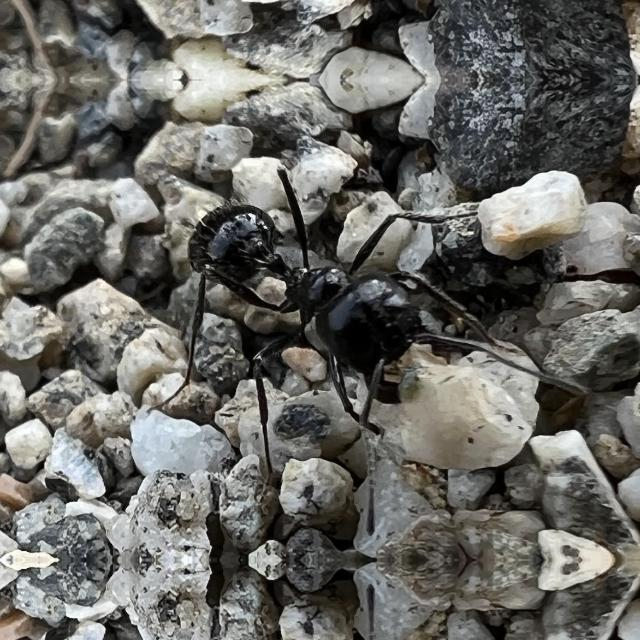Messor: (152, 180, 454, 424)
